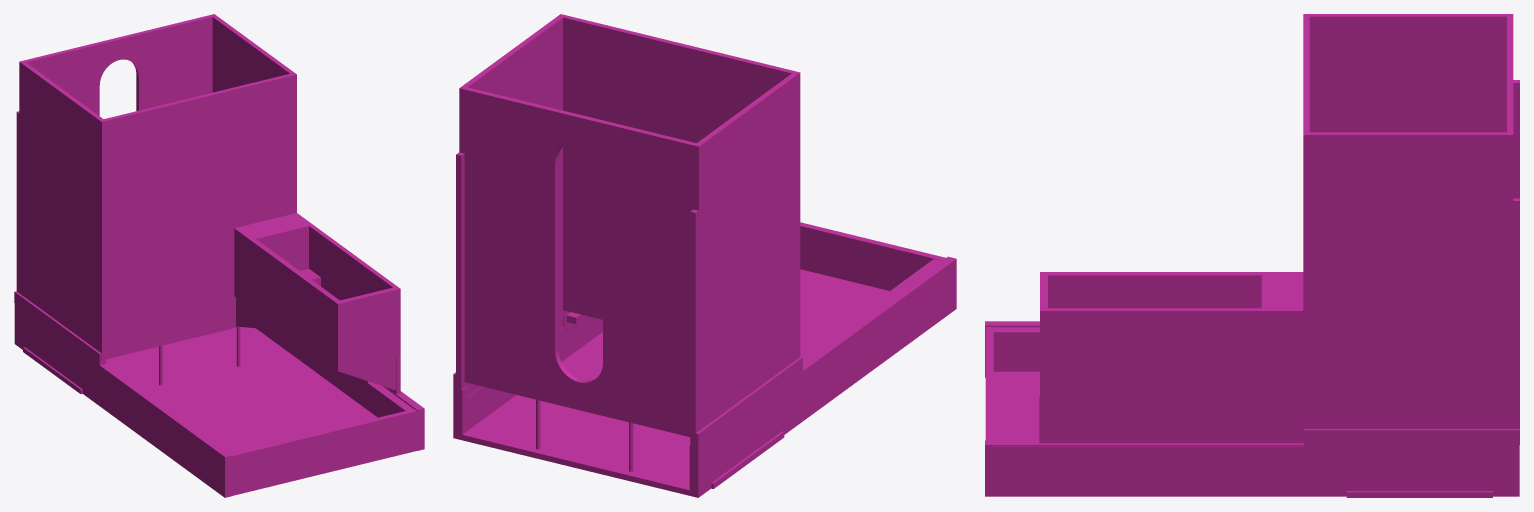
The model's file is body.glb.
3 renders of one model, left to right at view 1: azimuth 30°, elevation 25°; view 2: azimuth 150°, elevation 25°; view 3: azimuth 270°, elevation 25°, orthographic. The views are drawn at different scales.
Visible parts, largest first — view 1: Mesh_Mesh_head_geo.001_lambert2SG.001; view 2: Mesh_Mesh_head_geo.001_lambert2SG.001; view 3: Mesh_Mesh_head_geo.001_lambert2SG.001.
Boxes of the visible parts, left/top/right/bottom form: Mesh_Mesh_head_geo.001_lambert2SG.001: left=14, top=14, right=424, bottom=497; Mesh_Mesh_head_geo.001_lambert2SG.001: left=453, top=14, right=956, bottom=497; Mesh_Mesh_head_geo.001_lambert2SG.001: left=985, top=14, right=1519, bottom=497.
Size of the model in its own units: 0.0469 by 0.0625 by 0.084.
